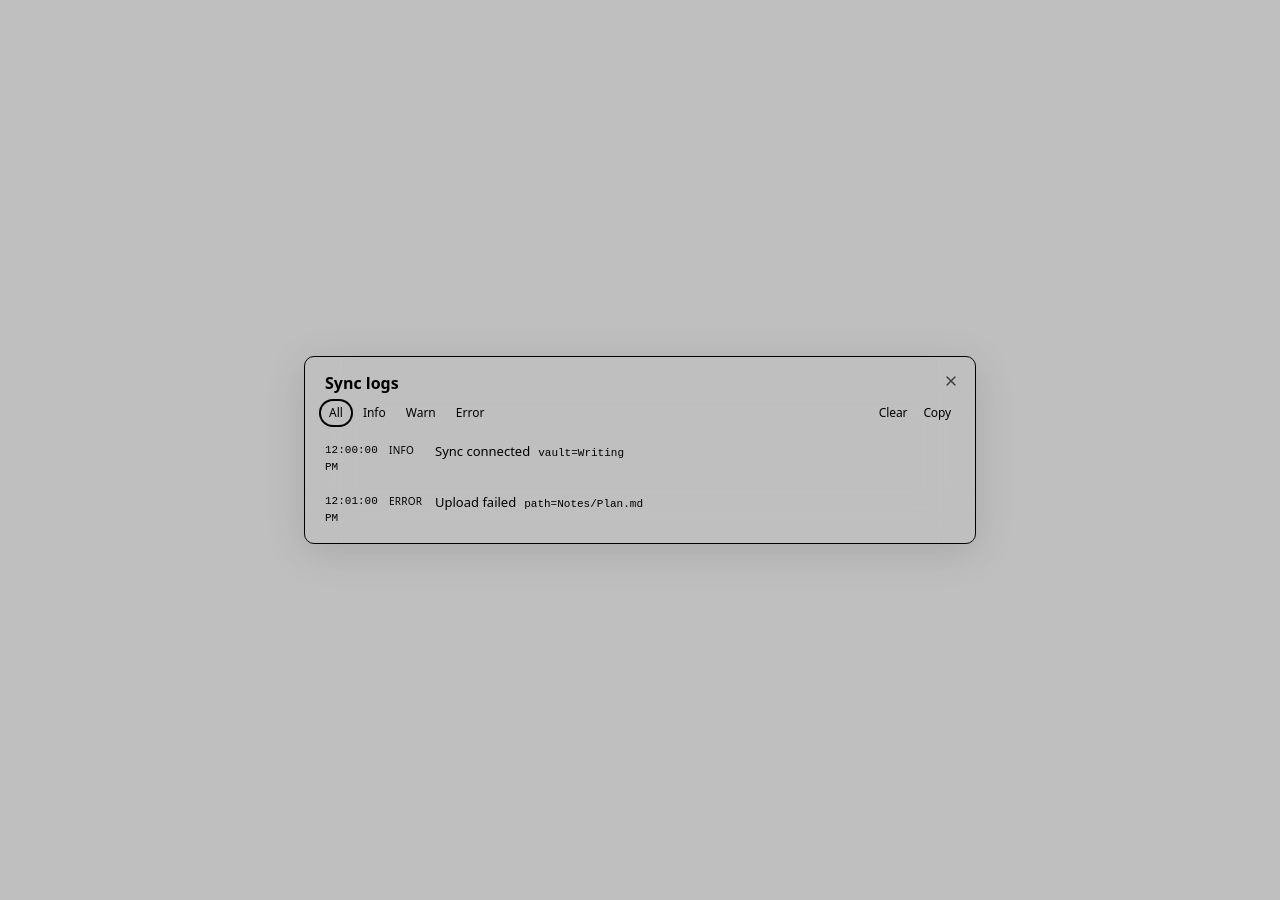
it: SyncLogsModal › presents structured log entries and filters by level
Expected: the heading "Sync logs" is shown, [325,372,399,394]
Expected: the text "Sync connected" is shown, [435,442,530,460]
Click the radio button with aria-label "Show error logs" at (470, 413), box [448,401,492,425]
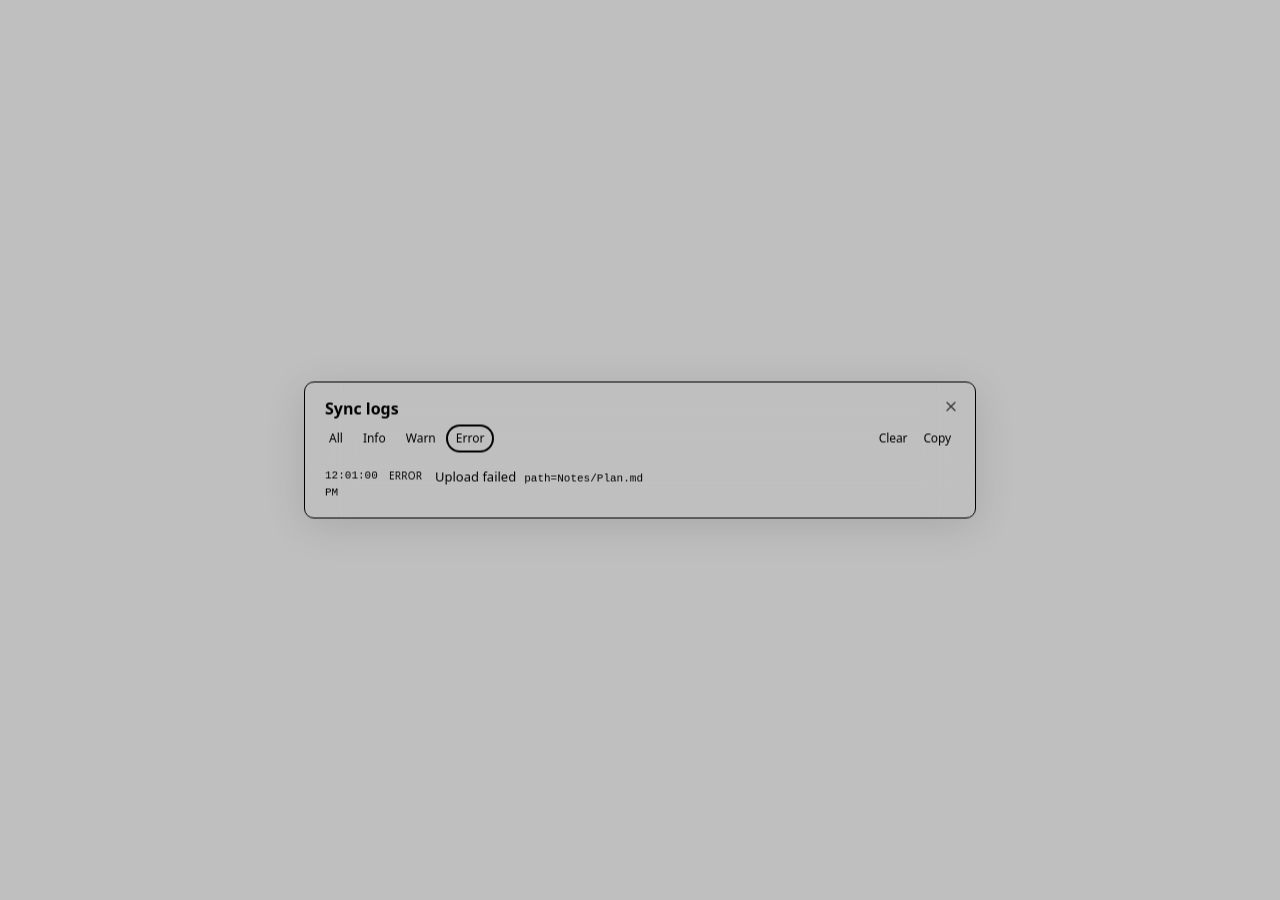
Expected: the text "Upload failed" is shown, [435,468,516,486]
Expected: the text "Sync connected" is gone
